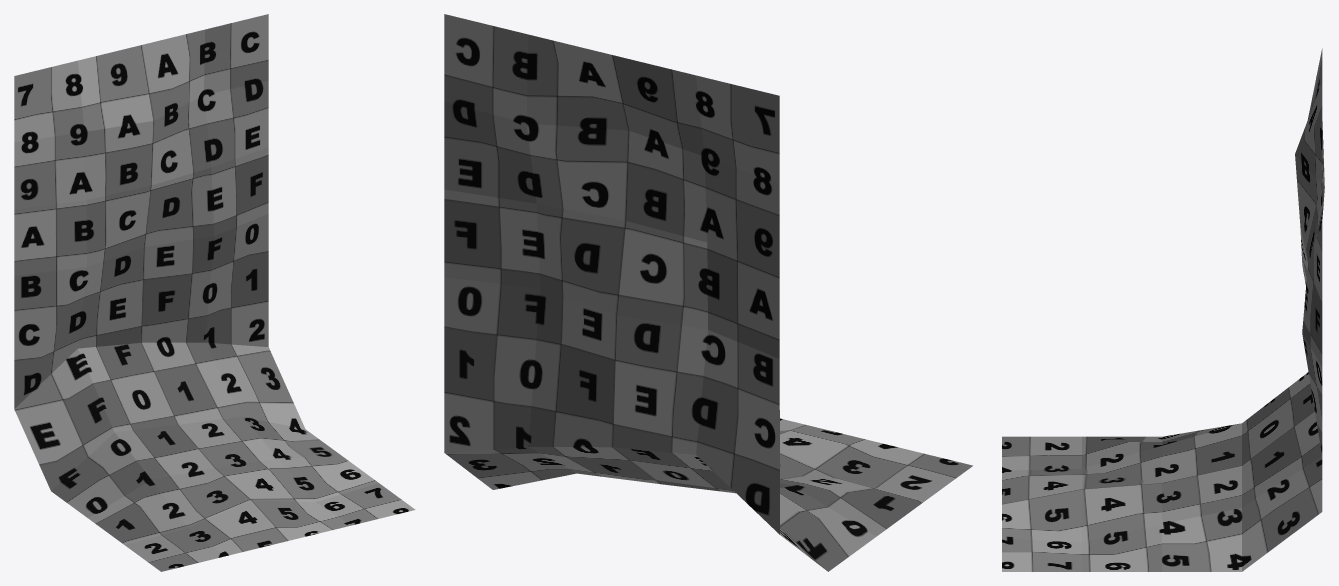
The model's file is WallEdge1.fbx.
The picture shows the model from 3 angles, left to right: view 1: azimuth 30°, elevation 25°; view 2: azimuth 150°, elevation 25°; view 3: azimuth 270°, elevation 25°; orthographic projection. The views are drawn at different scales.
Visible parts, largest first — view 1: polySurface69; view 2: polySurface69; view 3: polySurface69.
Boxes of the visible parts, x1,y1,x2,y2 form: polySurface69: (14, 14, 415, 571); polySurface69: (444, 14, 972, 571); polySurface69: (1002, 48, 1324, 571).
Bounding box in the file's own units: 1 × 1.47 × 1.01.
Materials: 1 (1 with a texture image).
